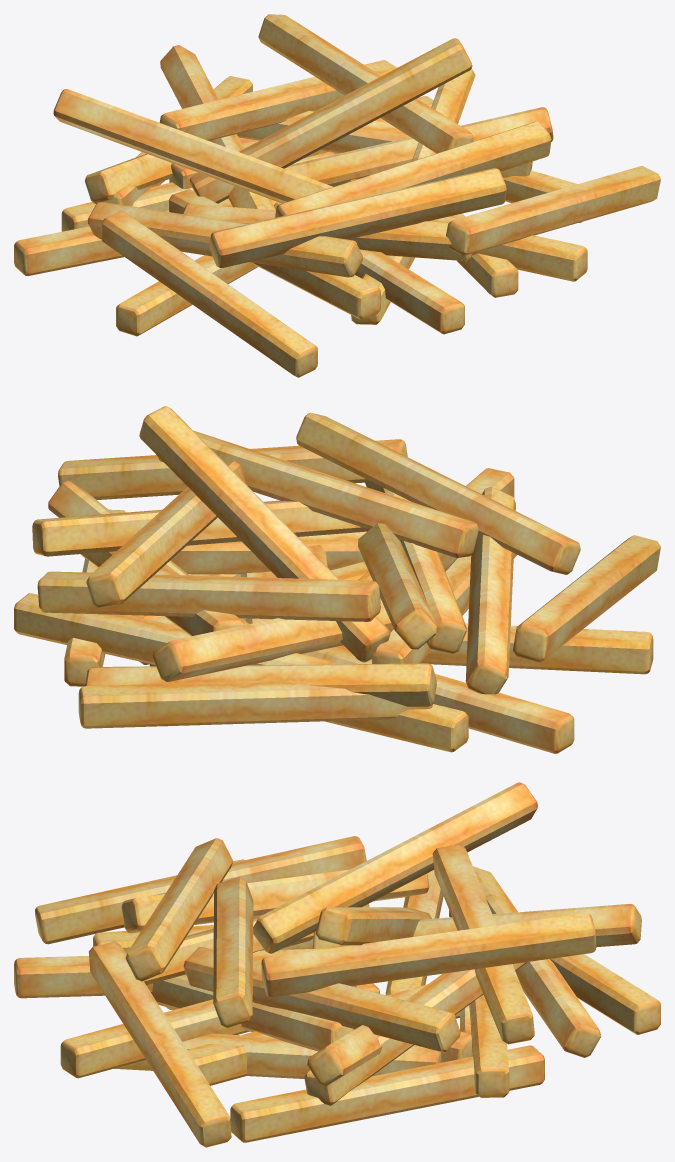
Rendered from batch patatjes We are cooked.fbx.
The picture shows the model from 3 angles, top to bottom: view 1: azimuth 30°, elevation 25°; view 2: azimuth 150°, elevation 25°; view 3: azimuth 270°, elevation 25°; orthographic projection. The views are drawn at different scales.
Visible parts, largest first — view 1: french frie.025, french frie.008, french frie.022, french frie.024, french frie.020, french frie.011, french frie.027, french frie.019, french frie.023, french frie.006, french frie.014, french frie.009 (+14 smaller); view 2: french frie.015, french frie.023, french frie.022, french frie.025, french frie.011, french frie.007, french frie.008, french frie.018, french frie.019, french frie.021, french frie.027, french frie.016 (+13 smaller); view 3: french frie.027, french frie.024, french frie.003, french frie.020, french frie.021, french frie.008, french frie.023, french frie.025, french frie.011, french frie.007, french frie.013, french frie.015 (+14 smaller).
Part boxes in pixels (<box>): french frie.025: <box>209,168,506,267</box>; french frie.008: <box>101,210,317,377</box>; french frie.022: <box>189,38,472,203</box>; french frie.024: <box>53,89,332,203</box>; french frie.020: <box>446,166,660,255</box>; french frie.011: <box>275,121,551,217</box>; french frie.027: <box>258,14,473,153</box>; french frie.019: <box>88,202,362,277</box>; french frie.023: <box>159,60,397,140</box>; french frie.006: <box>284,107,553,186</box>; french frie.014: <box>274,202,464,334</box>; french frie.009: <box>182,204,472,261</box>; french frie.015: <box>78,680,432,728</box>; french frie.023: <box>37,571,380,621</box>; french frie.022: <box>139,406,390,662</box>; french frie.025: <box>296,412,580,574</box>; french frie.011: <box>158,430,478,557</box>; french frie.007: <box>85,663,436,706</box>; french frie.008: <box>513,535,660,662</box>; french frie.018: <box>152,598,393,681</box>; french frie.019: <box>465,487,515,694</box>; french frie.021: <box>32,500,369,556</box>; french frie.027: <box>86,461,245,608</box>; french frie.016: <box>14,593,335,665</box>; french frie.027: <box>261,913,596,997</box>; french frie.024: <box>253,782,537,953</box>; french frie.003: <box>230,1045,544,1142</box>; french frie.020: <box>88,941,231,1147</box>; french frie.021: <box>183,947,460,1052</box>; french frie.008: <box>35,836,366,944</box>; french frie.023: <box>432,844,534,1044</box>; french frie.025: <box>125,838,233,981</box>; french frie.011: <box>213,877,253,1027</box>; french frie.007: <box>473,866,601,1057</box>; french frie.013: <box>60,985,356,1078</box>; french frie.015: <box>449,910,660,1034</box>.
Bounding box in the file's own units: 15.3 × 4.56 × 14.46.
